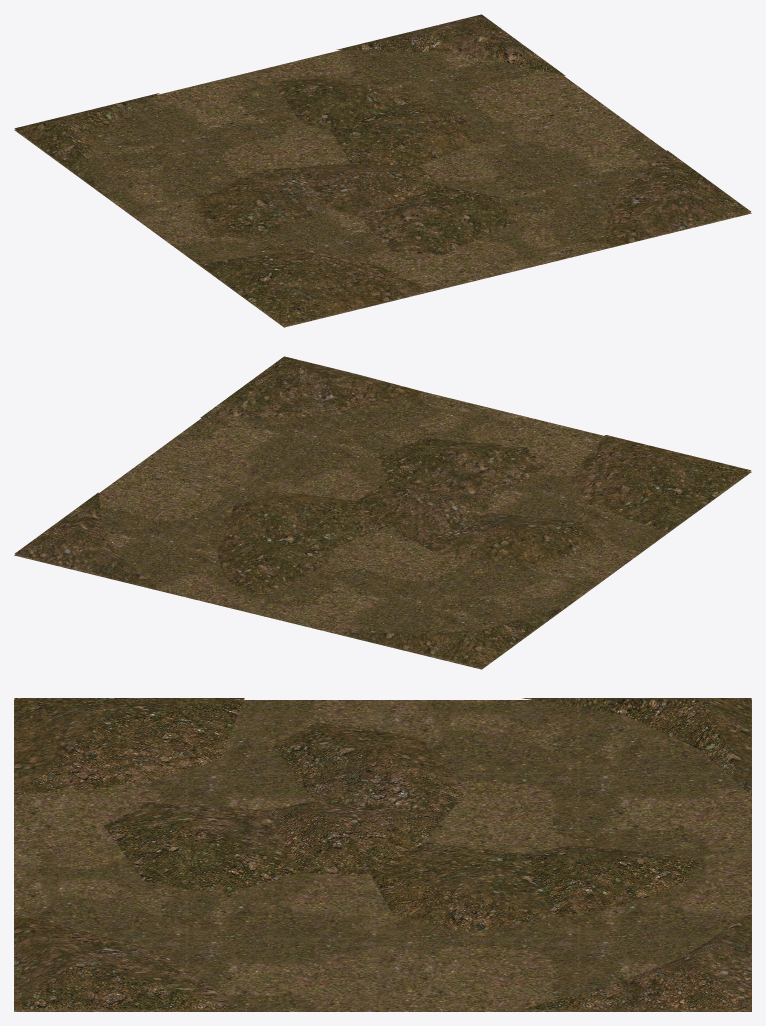
Rendered from Garden_08_Art.fbx.
3 views of the same model, one above another, from view 1: azimuth 30°, elevation 25°; view 2: azimuth 150°, elevation 25°; view 3: azimuth 270°, elevation 25° (orthographic). The views are drawn at different scales.
Visible parts, largest first — view 1: Garden_08_Art; view 2: Garden_08_Art; view 3: Garden_08_Art.
Boxes of the visible parts, bbox=[...] form: Garden_08_Art: bbox=[14, 14, 751, 327]; Garden_08_Art: bbox=[14, 356, 751, 669]; Garden_08_Art: bbox=[14, 698, 751, 1011].
Size of the model in its own units: 1598 by 50.07 by 1598.
